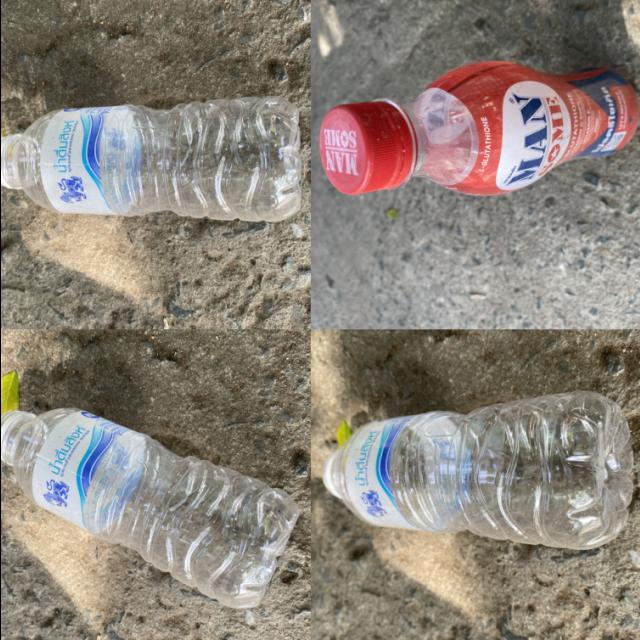plastik: (0, 409, 298, 609), (323, 392, 632, 549), (319, 61, 638, 194), (0, 97, 300, 222)
